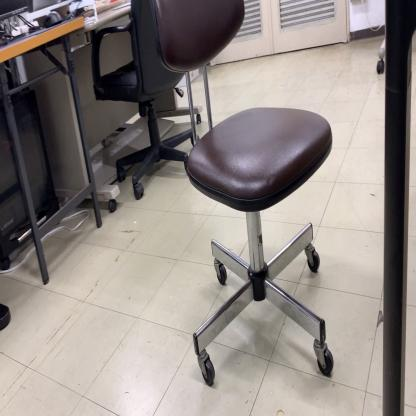chair: (151, 0, 339, 386), (90, 0, 200, 201)
